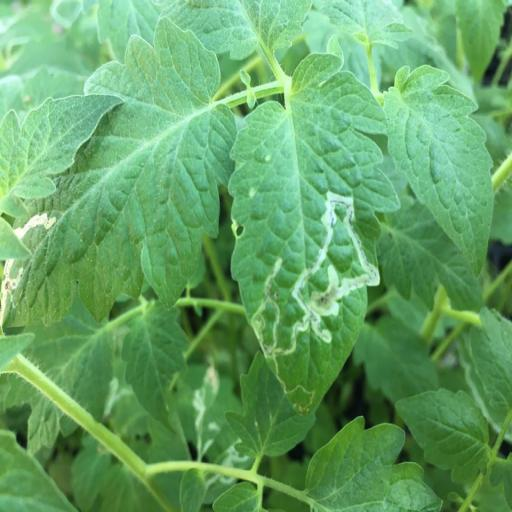disease_tomato: (224, 52, 400, 412)
